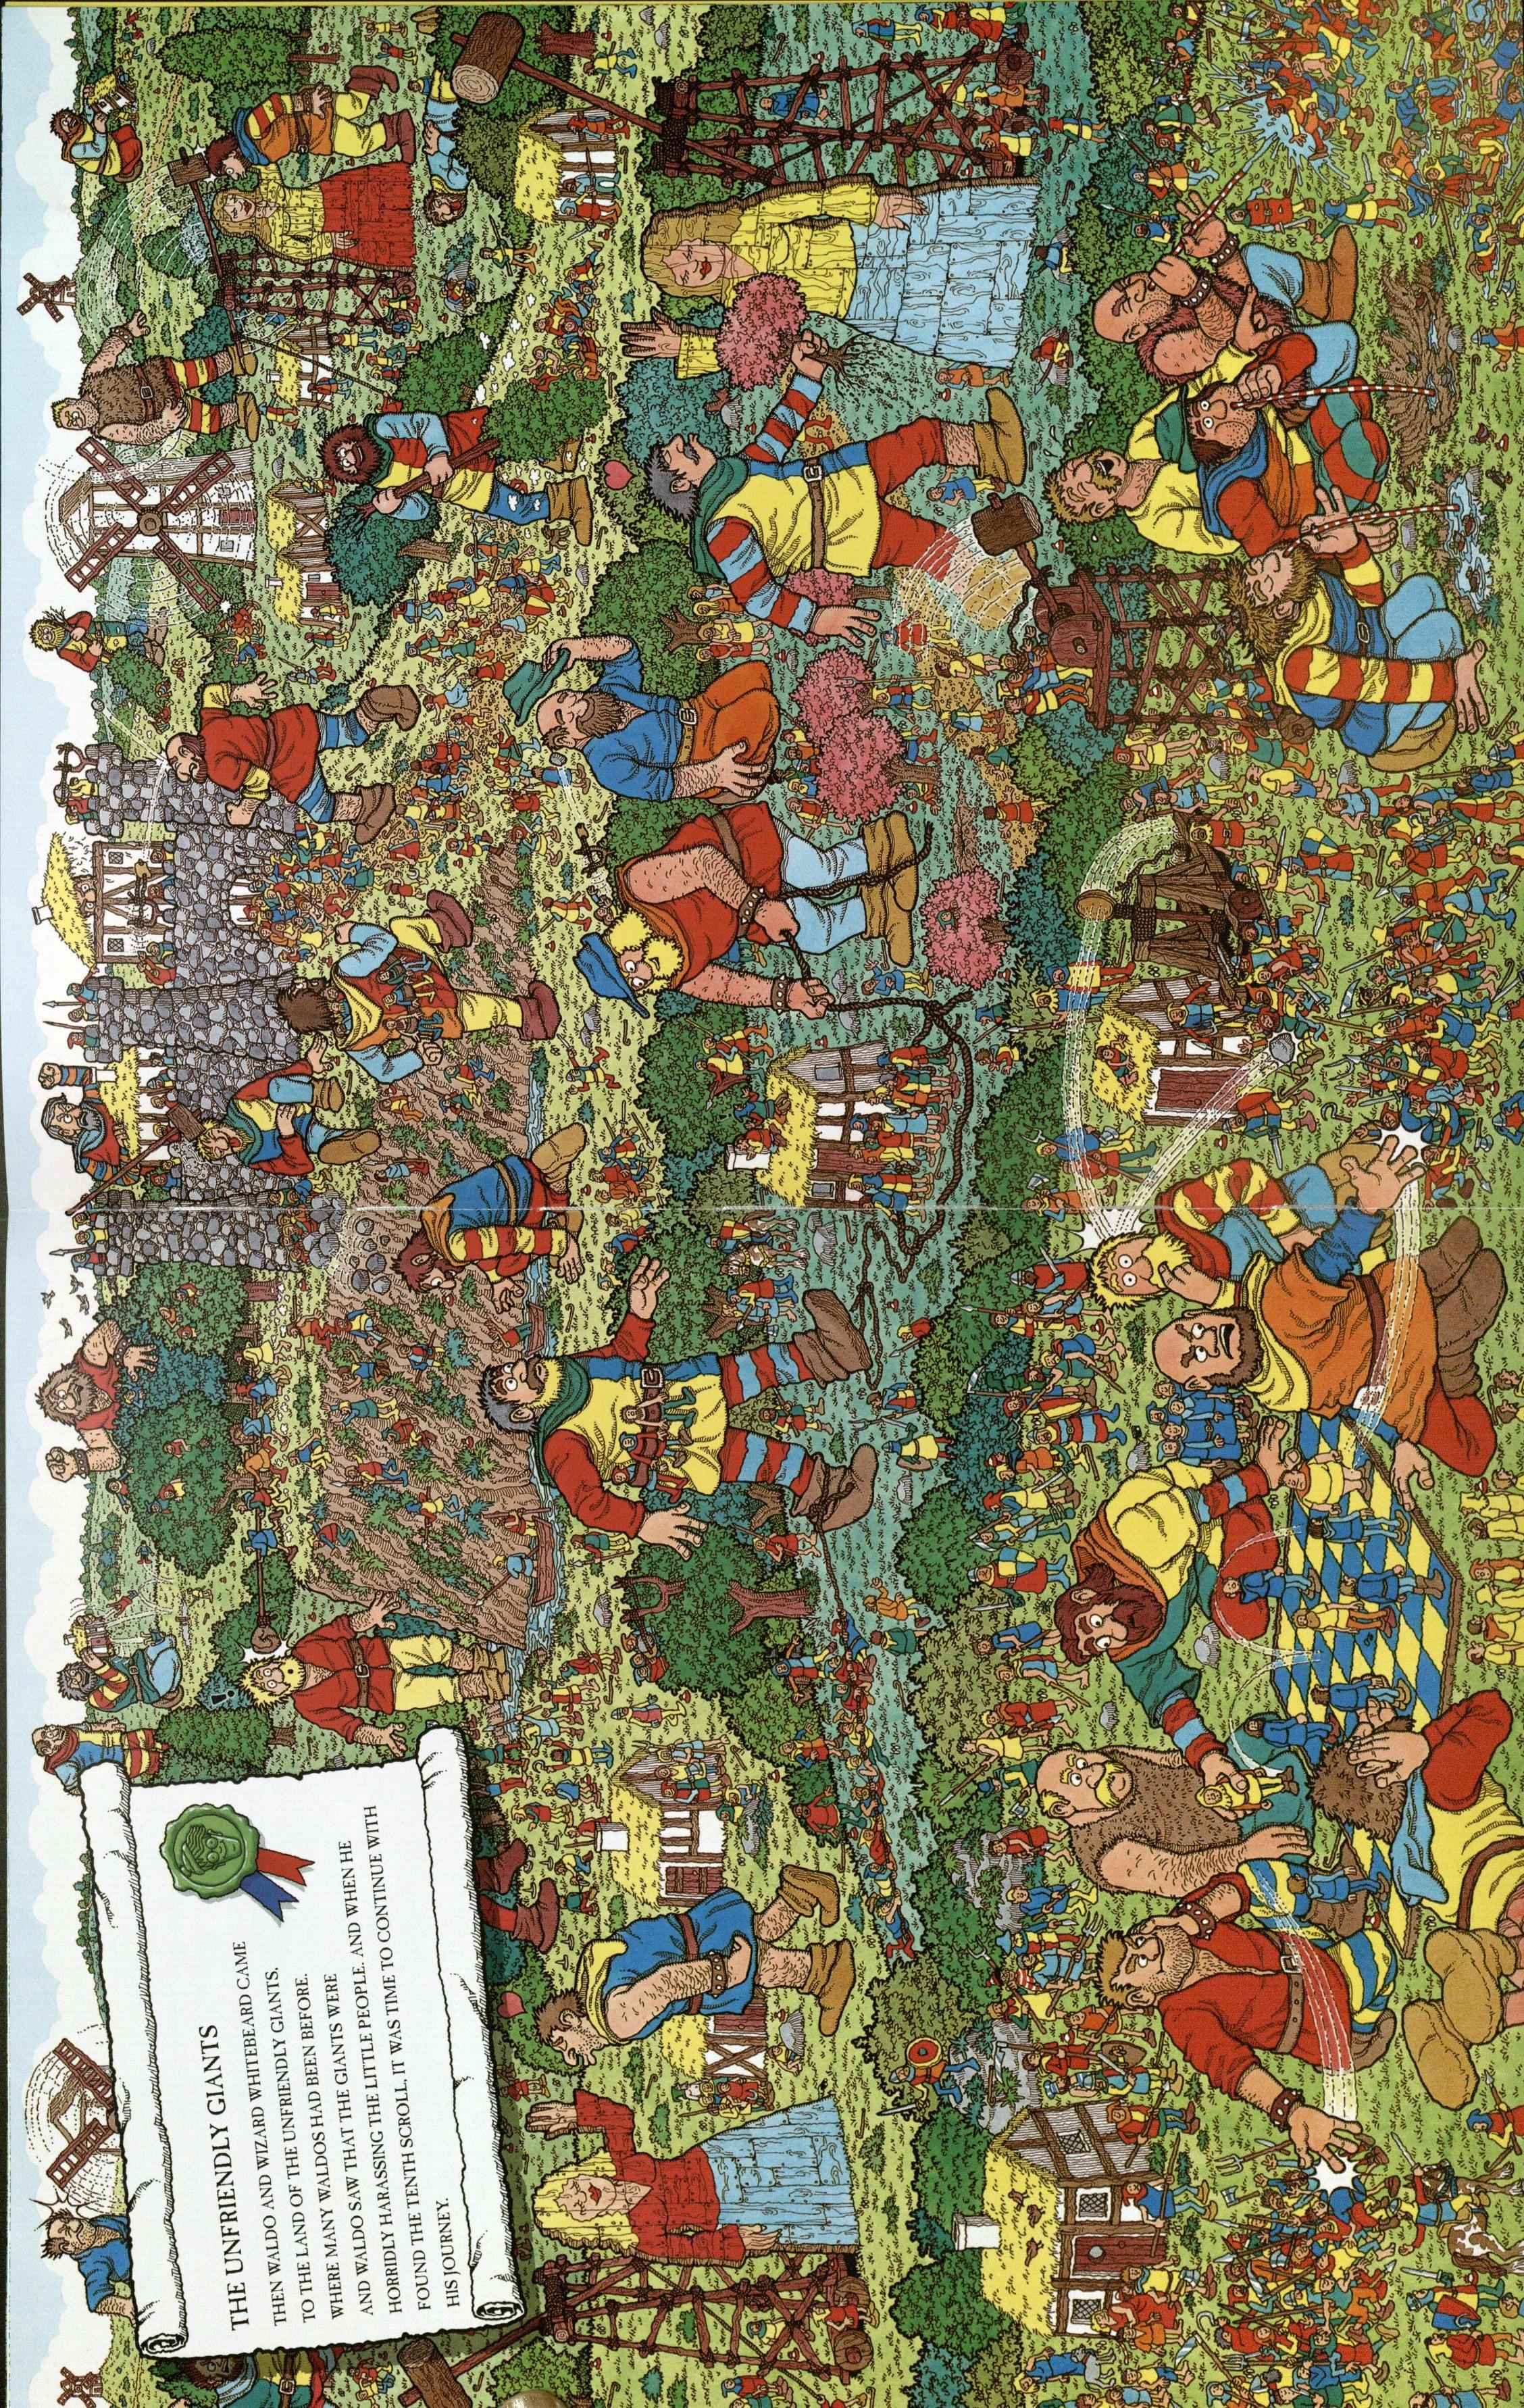waldos: (983, 1964, 1046, 1996)
